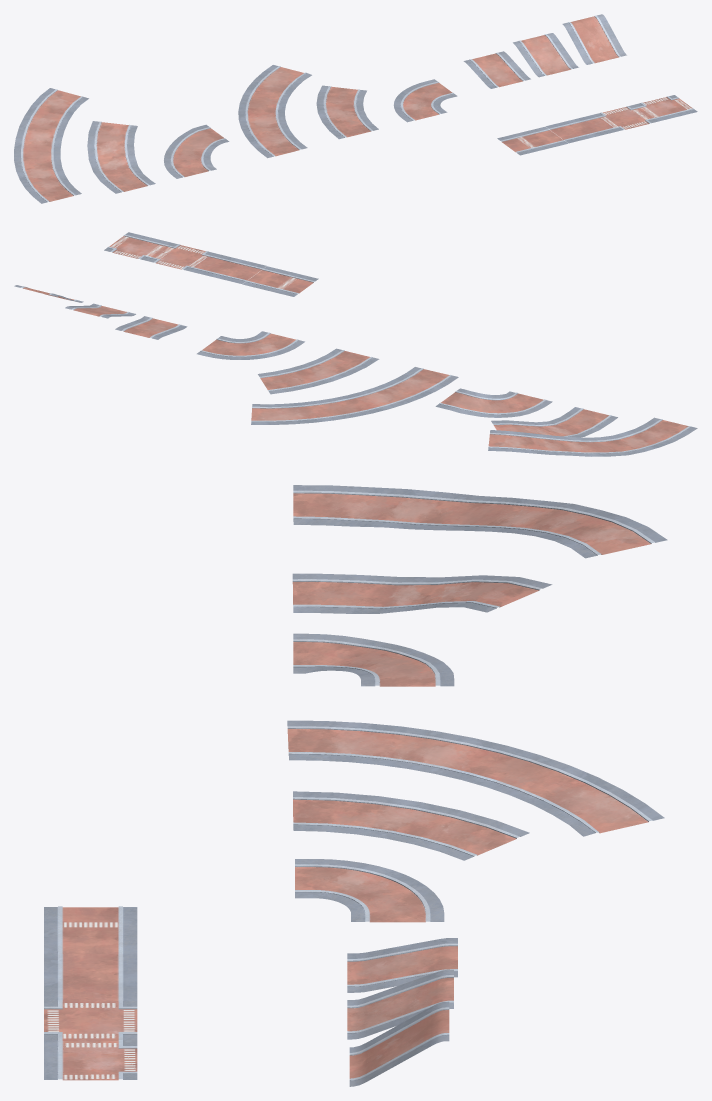
Rendered from route corrigée.fbx.
3 renders of one model, top to bottom at view 1: azimuth 30°, elevation 25°; view 2: azimuth 150°, elevation 25°; view 3: azimuth 270°, elevation 25°, orthographic. The views are drawn at different scales.
Visible parts, largest first — view 1: route test 2.014, route test 2.005, route test 2.013, route test 2.009, route test 2.012, route test 2.006, route test 2.001, route test 2.008, route test 2.010, route test 2.003, route test 2.017, route test 2.016 (+1 smaller); view 2: route test 2.005, route test 2.014, route test 2.009, route test 2.012, route test 2.013, route test 2.001, route test 2.017, route test 2.003, route test 2.007, route test 2.016, route test 2.010, route test 2.008; view 3: route test 2.005, route test 2.014, route test 2.009, route test 2.013, route test 2.001, route test 2.012, route test 2.017, route test 2.003, route test 2.010, route test 2.006, route test 2.008, route test 2.007 (+1 smaller).
Part boxes in pixels (x1,y1,x2,y2): route test 2.014: [14, 88, 88, 203]; route test 2.005: [238, 65, 311, 158]; route test 2.013: [87, 121, 155, 193]; route test 2.009: [316, 85, 378, 139]; route test 2.012: [164, 124, 229, 178]; route test 2.006: [562, 14, 626, 64]; route test 2.001: [393, 79, 457, 122]; route test 2.008: [513, 33, 578, 77]; route test 2.010: [463, 51, 530, 88]; route test 2.003: [497, 126, 567, 155]; route test 2.017: [546, 114, 616, 143]; route test 2.016: [594, 105, 657, 131]; route test 2.005: [251, 367, 458, 424]; route test 2.014: [488, 417, 697, 456]; route test 2.009: [258, 348, 379, 394]; route test 2.012: [435, 388, 552, 417]; route test 2.013: [491, 407, 617, 437]; route test 2.001: [197, 331, 304, 359]; route test 2.017: [190, 253, 266, 283]; route test 2.003: [242, 266, 318, 296]; route test 2.007: [104, 232, 171, 260]; route test 2.016: [147, 243, 214, 271]; route test 2.010: [115, 316, 187, 339]; route test 2.008: [65, 303, 135, 318]; route test 2.005: [287, 720, 664, 836]; route test 2.014: [293, 485, 667, 558]; route test 2.009: [293, 791, 529, 860]; route test 2.013: [292, 573, 552, 613]; route test 2.001: [295, 859, 444, 922]; route test 2.012: [293, 633, 454, 686]; route test 2.017: [44, 953, 137, 1001]; route test 2.003: [44, 906, 137, 953]; route test 2.010: [347, 938, 457, 992]; route test 2.006: [349, 1001, 449, 1086]; route test 2.008: [347, 969, 453, 1039]; route test 2.007: [44, 1040, 137, 1080].
Bounding box in the file's own units: 4675 × 232 × 2106.
